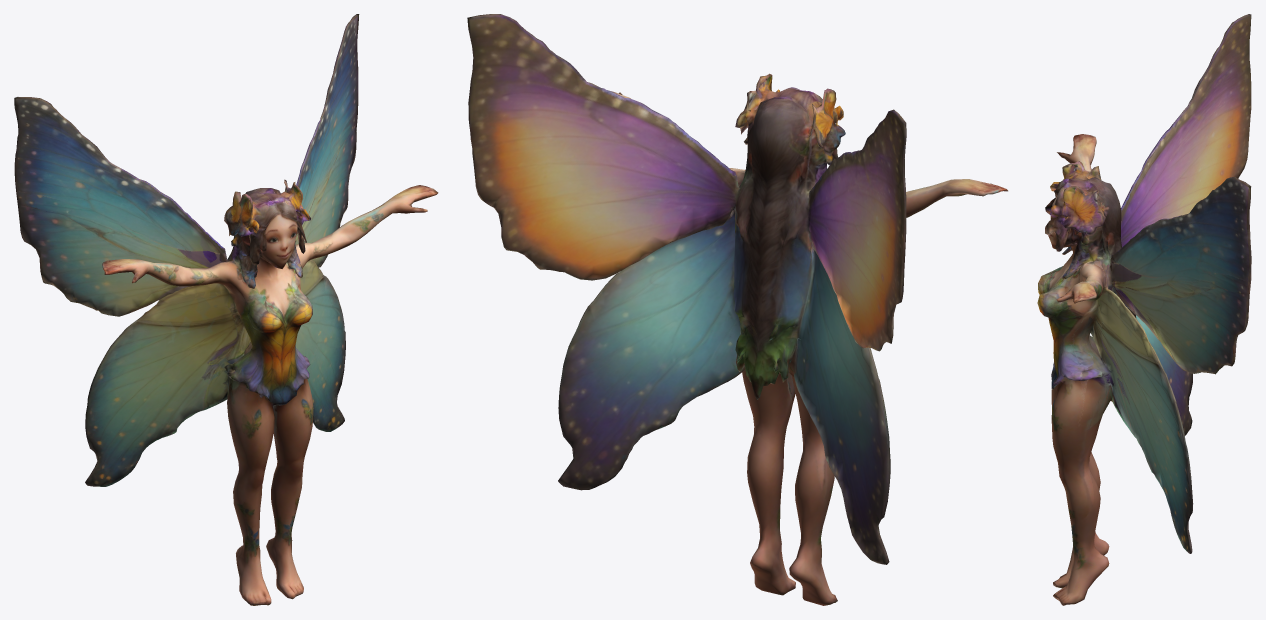
The model's file is fairy.glb.
3 views of the same model, side by side, from view 1: azimuth 30°, elevation 25°; view 2: azimuth 150°, elevation 25°; view 3: azimuth 270°, elevation 25° (orthographic). The views are drawn at different scales.
Size of the model in its own units: 1.51 by 2.01 by 0.7859.
1 material, 1 textured.
